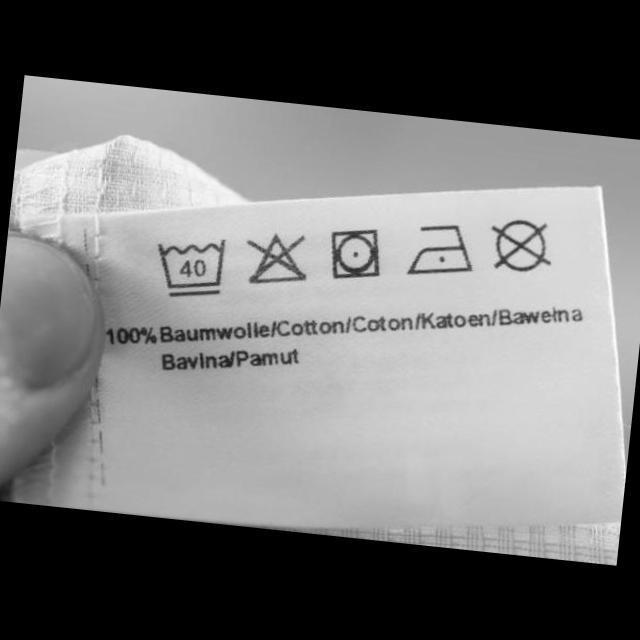40C: (148, 230, 230, 306)
DN_bleach: (238, 224, 316, 294)
DN_dry_clean: (484, 214, 560, 279)
iron_low: (405, 218, 479, 284)
tumble_dry_low: (325, 222, 389, 288)
